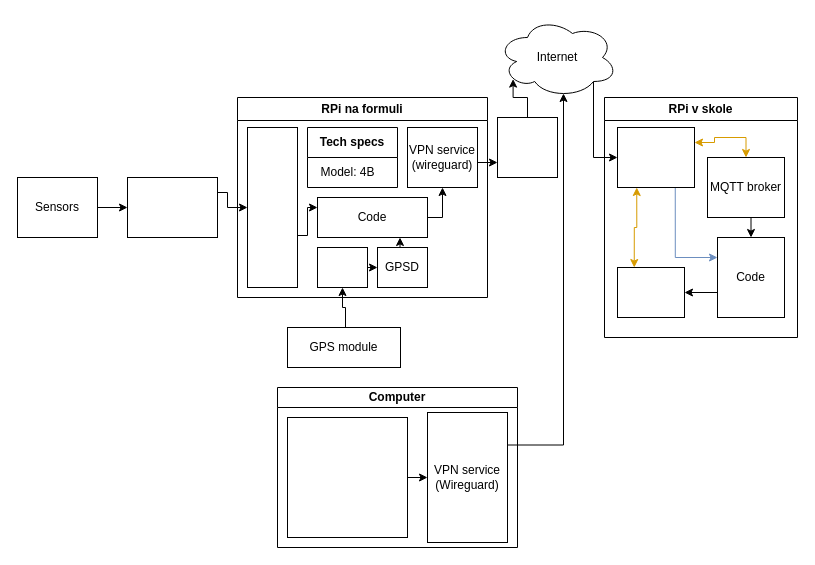
Some shapes in this 815 by 565 pixel diagram are drawn without their labels. The shapes that lost their labels are listed below. From the top down, each one's centre as x and y in pixels, then its label:
the point at 527,147: Mobile h otspot
the point at 655,157: VPN server connection (Wireguard)
the point at 172,207: Analog to digital converter (MCP3008) Datasheet
the point at 272,207: GPIO pin header Pinout
the point at 342,267: USB
the point at 650,292: PostgreSQL database
the point at 347,477: Code: Visualisation Start / Stop recording
